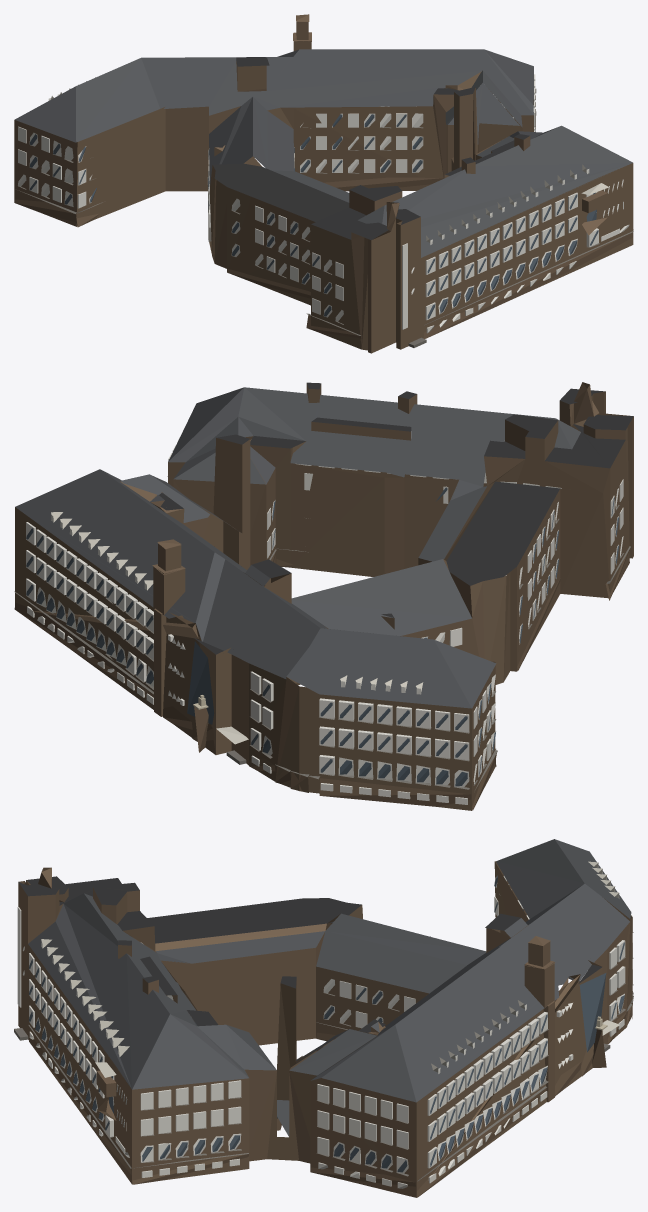
Rendered from nieuwe-achtergracht-129.lod1.glb.
The picture shows the model from 3 angles, top to bottom: view 1: azimuth 30°, elevation 25°; view 2: azimuth 150°, elevation 25°; view 3: azimuth 270°, elevation 25°; orthographic projection. The views are drawn at different scales.
Parts seen in each view (by area): view 1: nieuwe-achtergracht-129; view 2: nieuwe-achtergracht-129; view 3: nieuwe-achtergracht-129.
Boxes of the visible parts, <box> form: nieuwe-achtergracht-129: <box>14,14,633,353</box>; nieuwe-achtergracht-129: <box>14,382,633,810</box>; nieuwe-achtergracht-129: <box>14,839,633,1197</box>.
Size of the model in its own units: 84.17 by 24.82 by 87.74.
